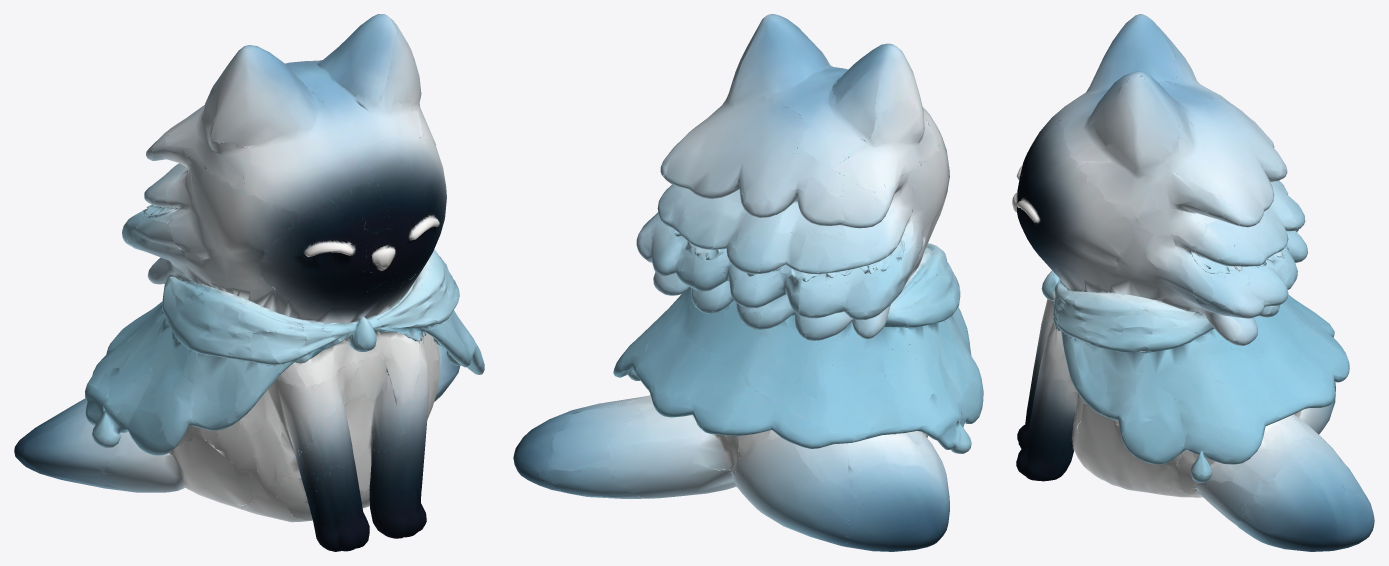
The model's file is raindrop-cape-D7AxwXK_.glb.
3 renders of one model, left to right at view 1: azimuth 30°, elevation 25°; view 2: azimuth 150°, elevation 25°; view 3: azimuth 270°, elevation 25°, orthographic. The views are drawn at different scales.
Visible parts, largest first — view 1: worn-raindrop-cape; view 2: worn-raindrop-cape; view 3: worn-raindrop-cape.
Boxes of the visible parts, x1,y1,x2,y2 form: worn-raindrop-cape: [14, 14, 484, 551]; worn-raindrop-cape: [513, 14, 983, 551]; worn-raindrop-cape: [1012, 14, 1374, 551].
Bounding box in the file's own units: 1.89 × 1.9 × 1.47.
1 material, 1 textured.
